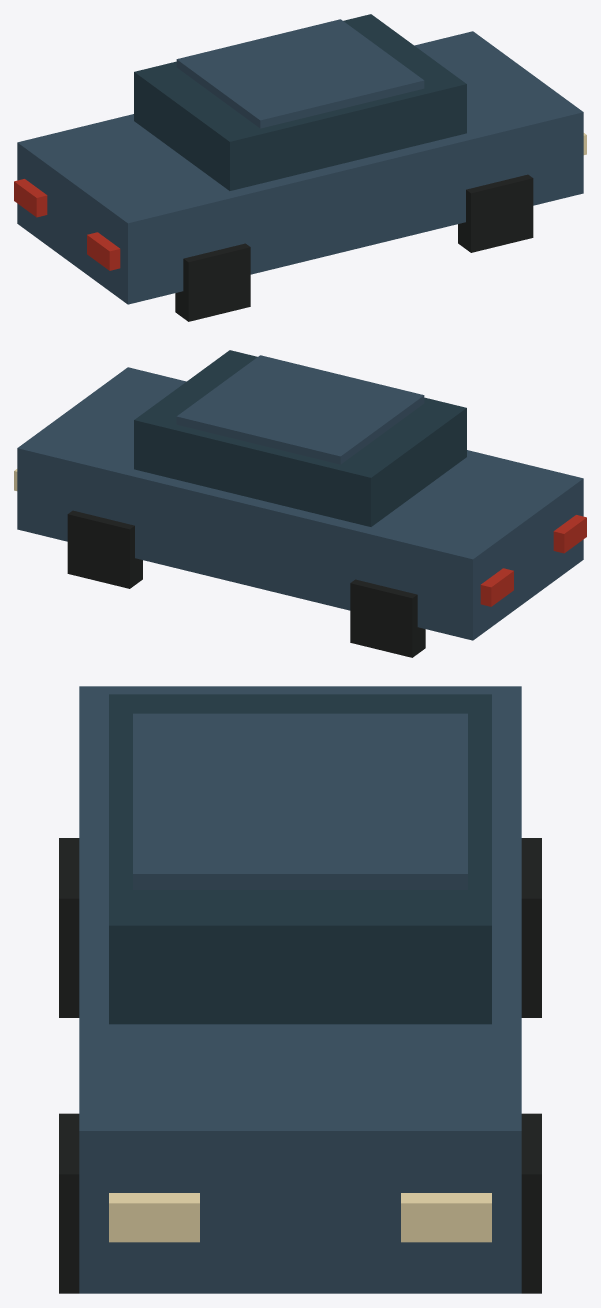
Rendered from traffic-car-4.glb.
3 views of the same model, one above another, from view 1: azimuth 30°, elevation 25°; view 2: azimuth 150°, elevation 25°; view 3: azimuth 270°, elevation 25° (orthographic). The views are drawn at different scales.
Size of the model in its own units: 4.61 by 1.53 by 2.02.
